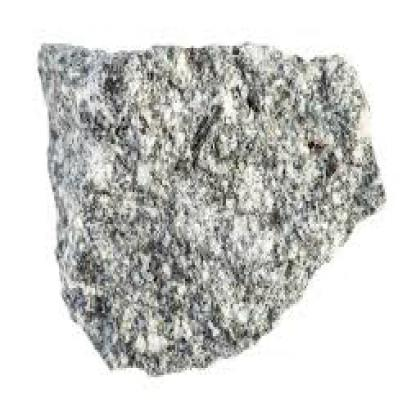Igneous_Diorite: (36, 25, 388, 373)
